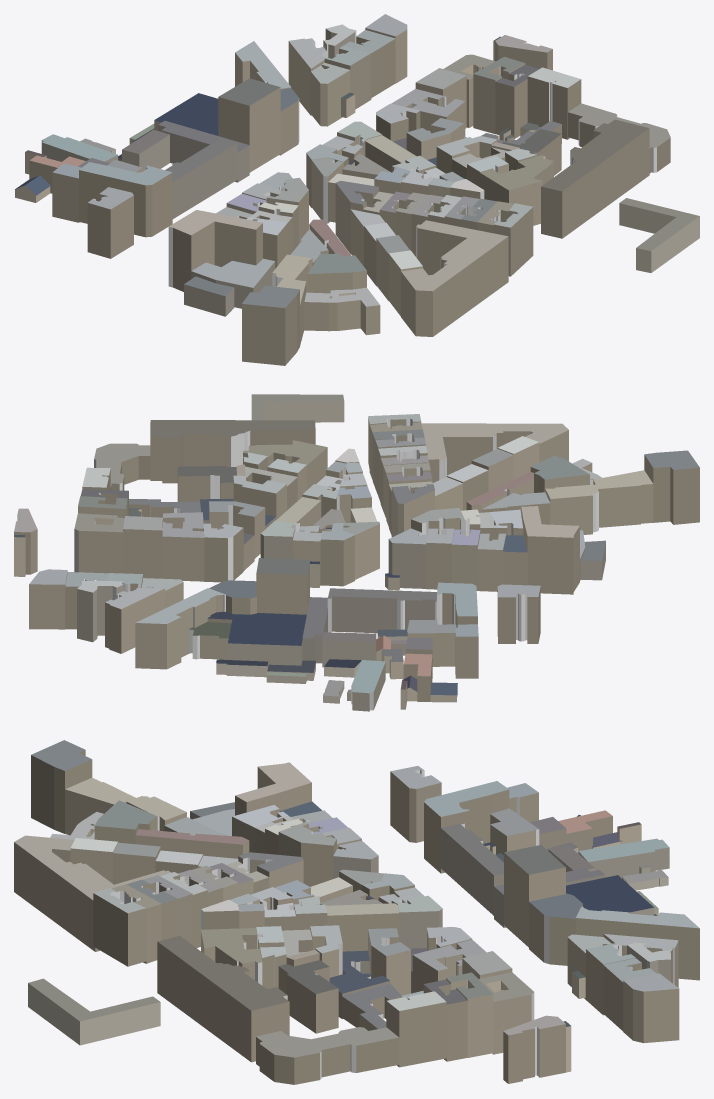
The picture shows the model from 3 angles, top to bottom: view 1: azimuth 30°, elevation 25°; view 2: azimuth 150°, elevation 25°; view 3: azimuth 270°, elevation 25°; orthographic projection. The views are drawn at different scales.
Parts seen in each view (by area): view 1: tuile; view 2: tuile; view 3: tuile.
Part boxes in pixels (left/top/right/bottom): tuile: left=15, top=14, right=699, bottom=365; tuile: left=14, top=394, right=699, bottom=711; tuile: left=14, top=740, right=699, bottom=1084.
Size of the model in its own units: 276 by 37.1 by 284.
